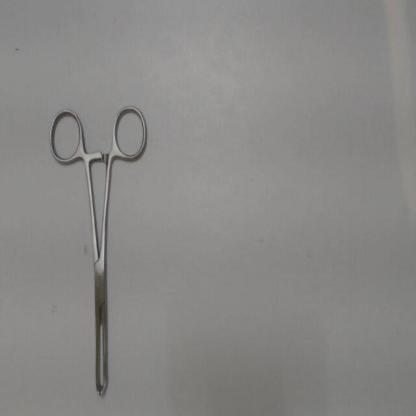Allis Tissue Forceps: (43, 101, 158, 409)
